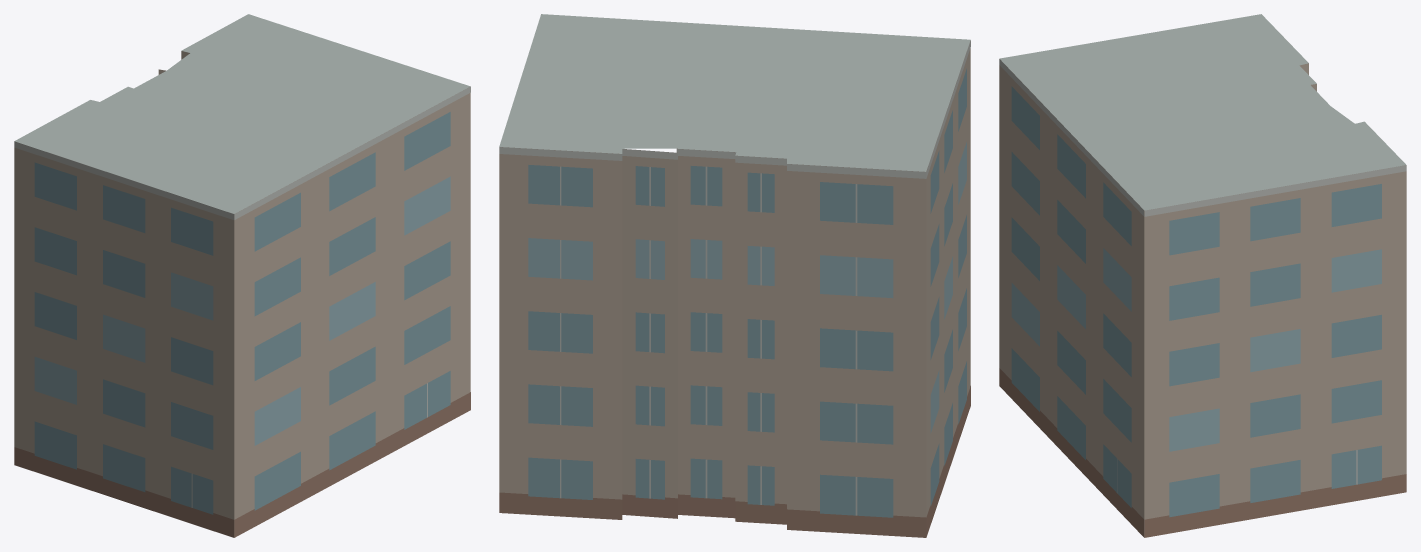
Rendered from survey-upis-32853743.glb.
The picture shows the model from 3 angles, left to right: view 1: azimuth 30°, elevation 25°; view 2: azimuth 150°, elevation 25°; view 3: azimuth 270°, elevation 25°; orthographic projection. The views are drawn at different scales.
Visible parts, largest first — view 1: survey-upis-32853743.tmp; view 2: survey-upis-32853743.tmp; view 3: survey-upis-32853743.tmp.
Boxes of the visible parts, box(x1,y1,x2,y2) form: survey-upis-32853743.tmp: box(14, 14, 470, 537); survey-upis-32853743.tmp: box(499, 14, 970, 537); survey-upis-32853743.tmp: box(999, 14, 1406, 537).
Bounding box in the file's own units: 16.37 × 12.7 × 14.34.
